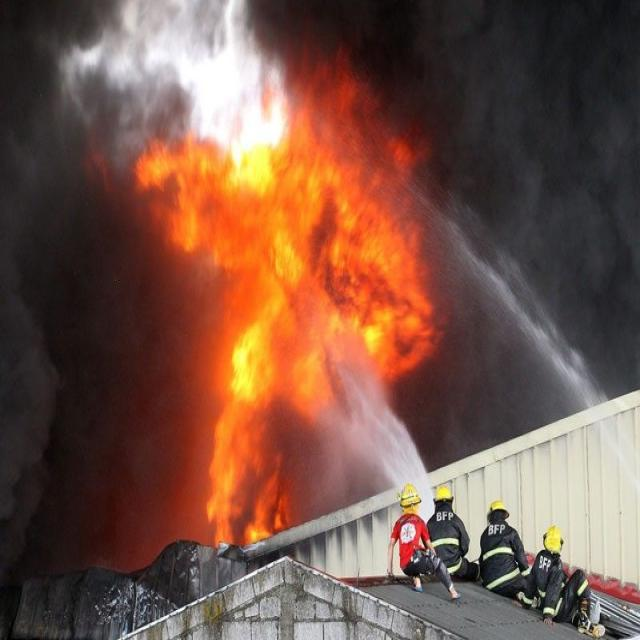Fire: (140, 149, 434, 333), (212, 337, 290, 540)
Smoke: (437, 6, 638, 402), (4, 5, 426, 142), (6, 153, 134, 564)
